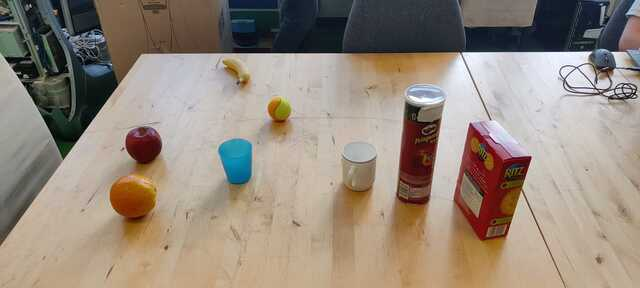001_chips_can: (395, 82, 448, 207)
003_cracker_box: (452, 117, 536, 245)
011_banana: (219, 54, 256, 87)
013_apple: (121, 124, 168, 166)
017_orange: (109, 171, 161, 220)
025_mug: (337, 139, 381, 194)
056_tennis_ball: (264, 94, 293, 124)
